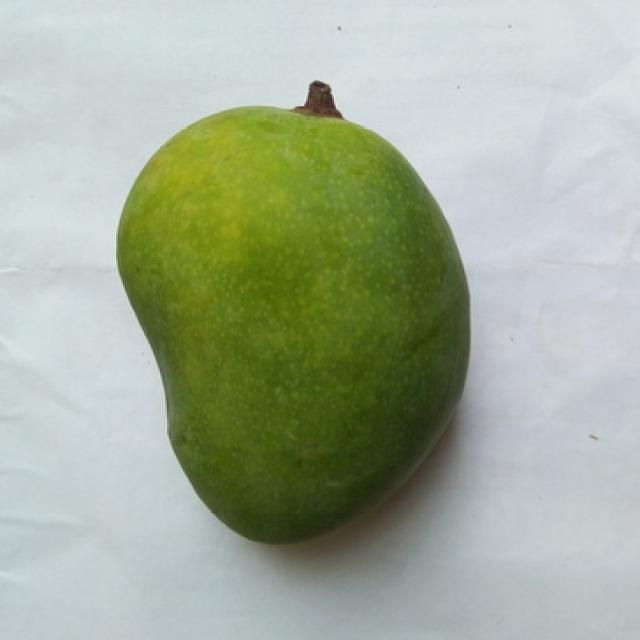Mango: (118, 83, 468, 542)
